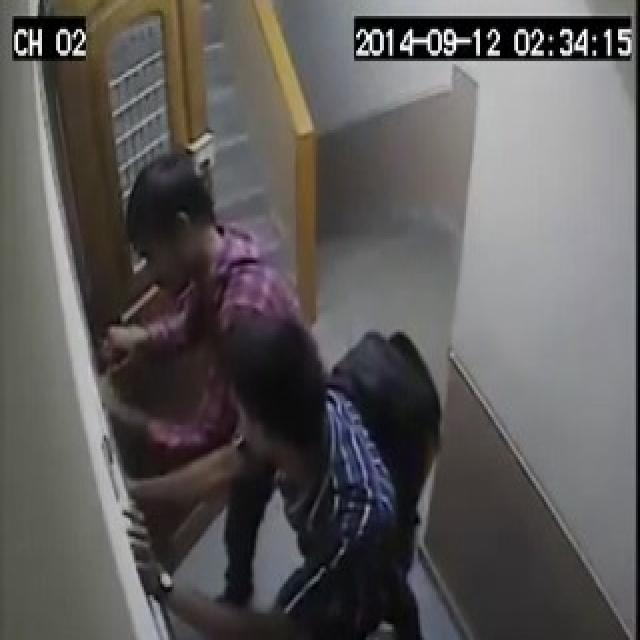burglary: (64, 252, 275, 518)
